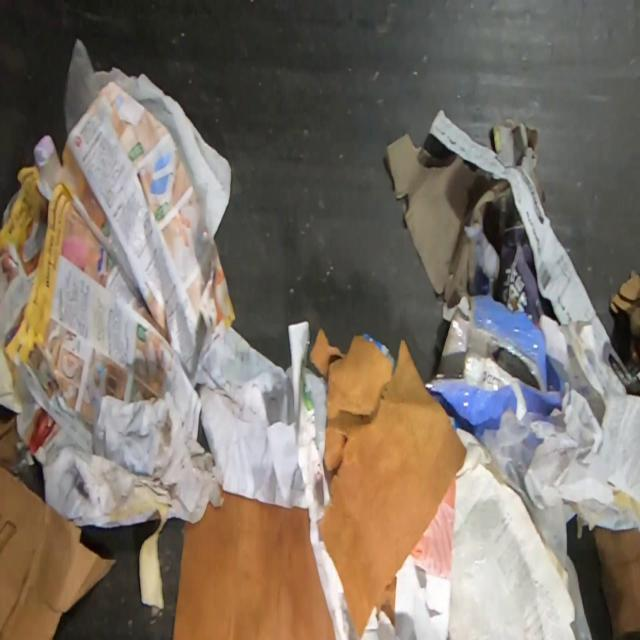cardboard: (317, 340, 468, 640), (0, 418, 117, 639), (172, 486, 336, 640), (385, 133, 512, 307), (309, 327, 396, 474), (593, 524, 640, 640), (491, 119, 548, 214), (608, 269, 640, 370)
soft_plastic: (423, 296, 566, 438), (62, 39, 102, 136)
